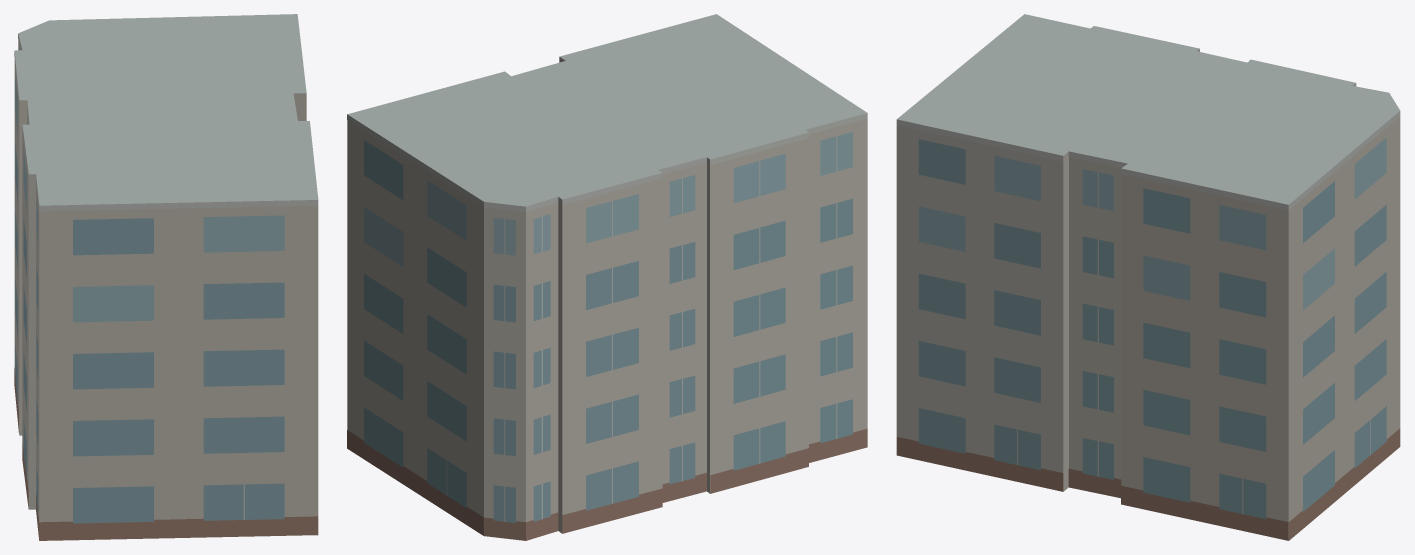
File: survey-upis-32892030.glb
3 renders of one model, left to right at view 1: azimuth 30°, elevation 25°; view 2: azimuth 150°, elevation 25°; view 3: azimuth 270°, elevation 25°, orthographic.
Visible parts, largest first — view 1: survey-upis-32892030.tmp; view 2: survey-upis-32892030.tmp; view 3: survey-upis-32892030.tmp.
Part boxes in pixels (bbox=[...]): survey-upis-32892030.tmp: bbox=[14, 14, 318, 540]; survey-upis-32892030.tmp: bbox=[347, 14, 867, 540]; survey-upis-32892030.tmp: bbox=[896, 14, 1400, 540].
Bounding box in the file's own units: 17.67 × 14.5 × 19.71.
